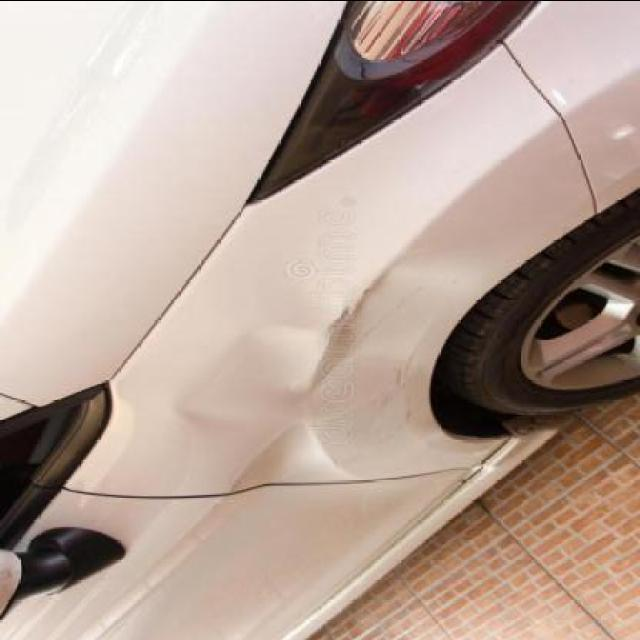fender-dent: (185, 227, 625, 488)
